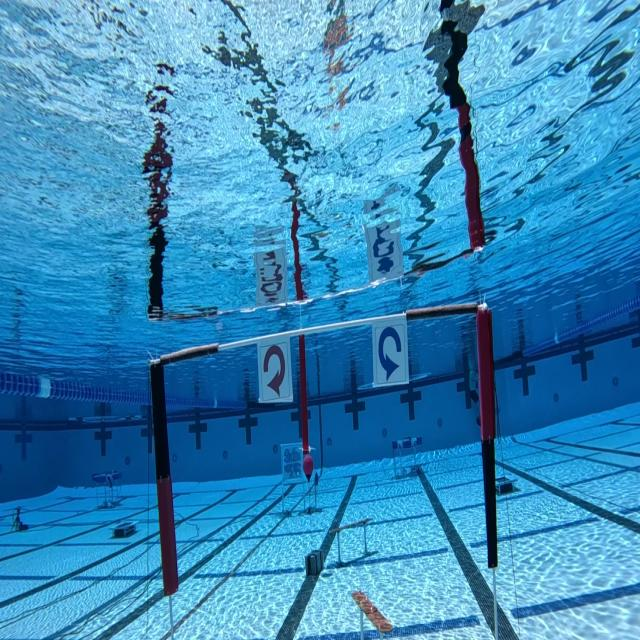blue_side: (366, 313, 416, 389)
red_side: (251, 332, 296, 408)
